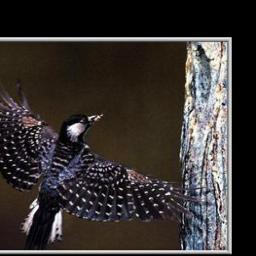Woodpecker: (0, 83, 206, 247)
